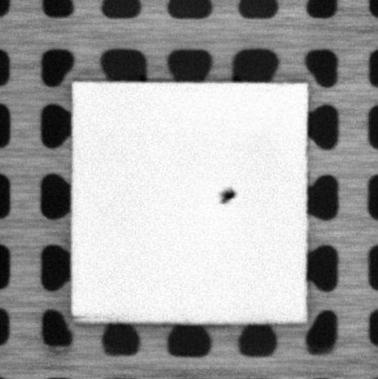DIE_INK: (216, 185, 237, 206)
